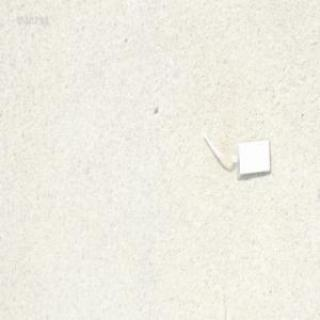LuggageTagtrack_idkeyframe: (195, 130, 269, 178)
